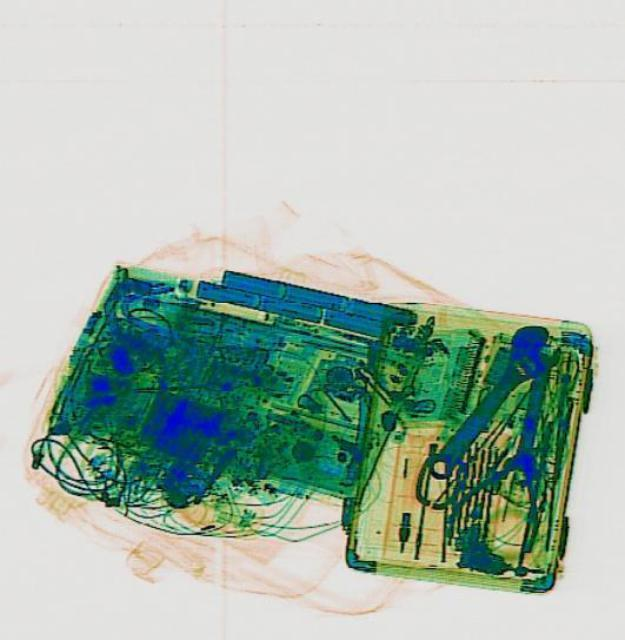Wrench: (413, 314, 568, 494), (498, 340, 560, 488)
